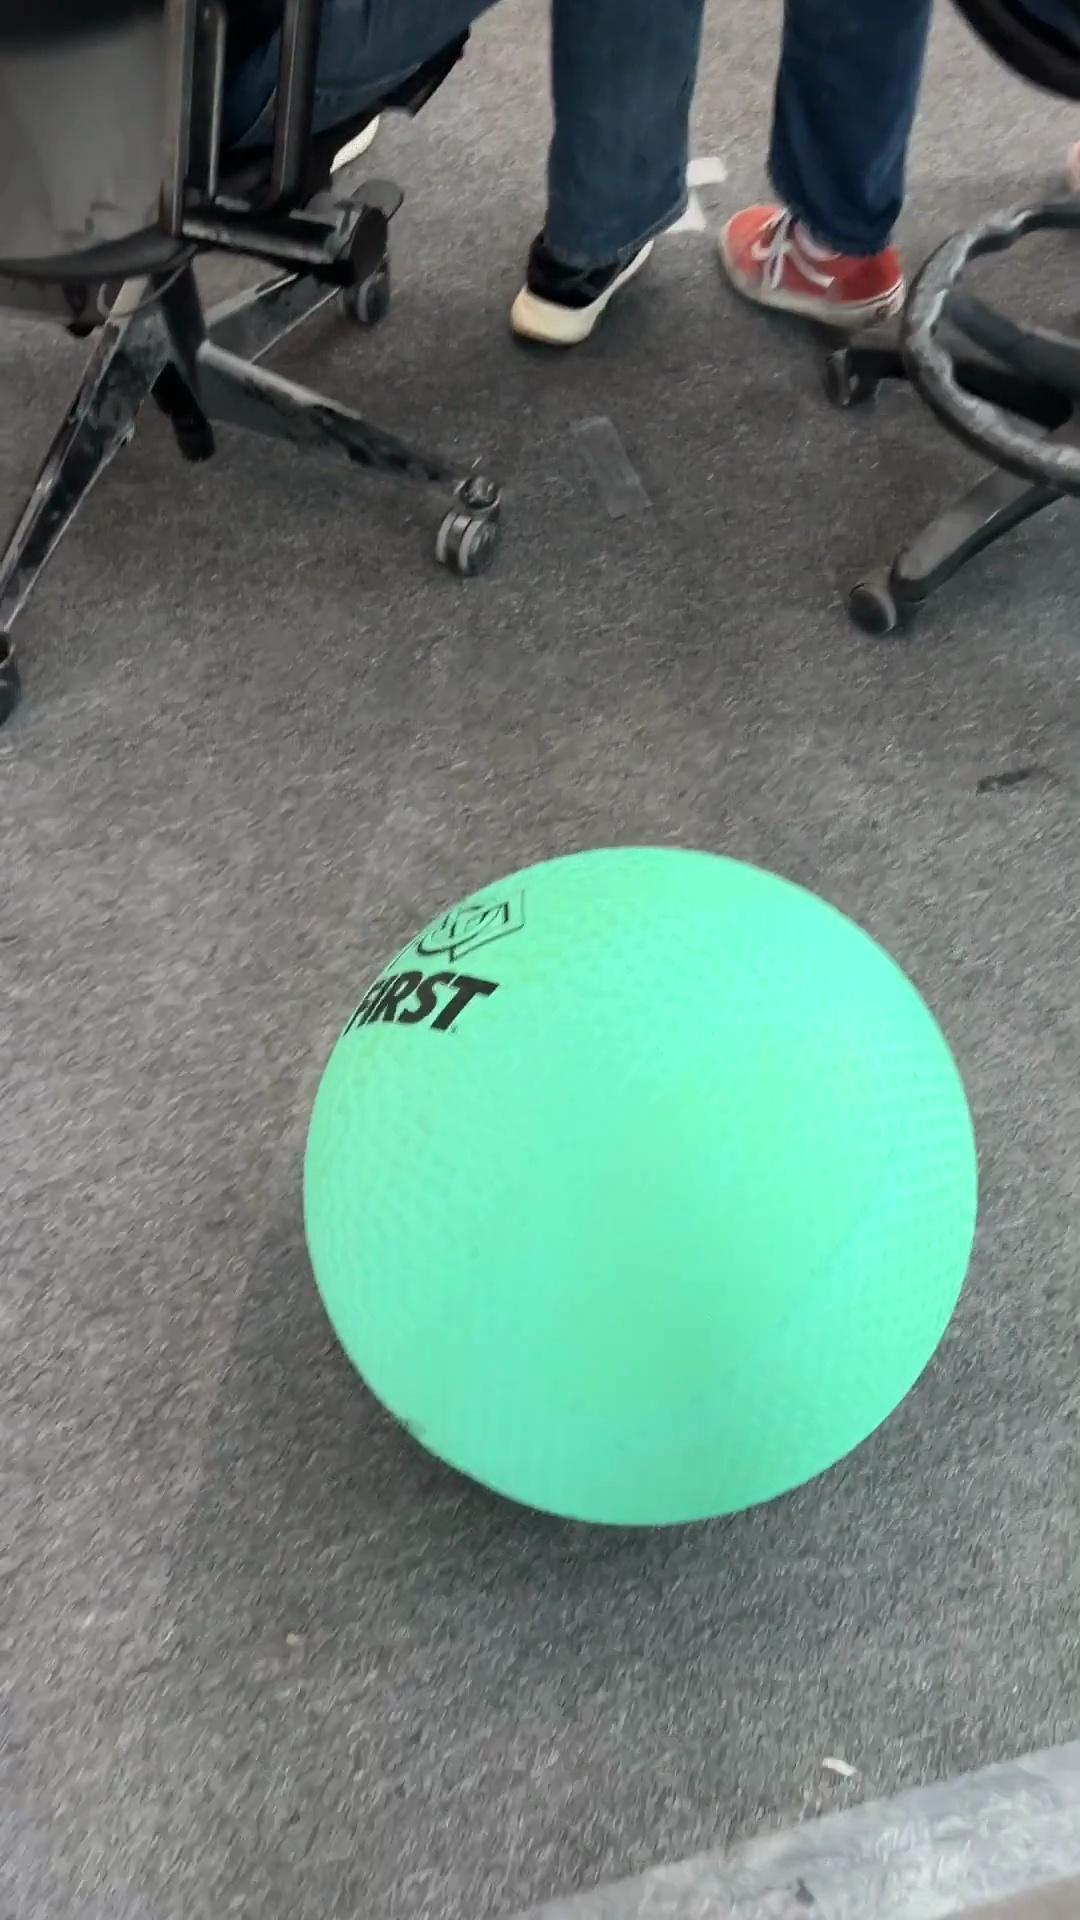ALGAE: (299, 841, 981, 1528)
